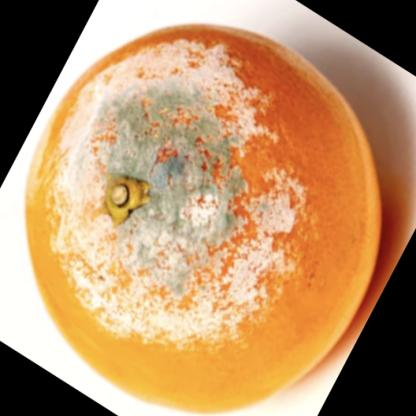rotten: (21, 22, 382, 414)
